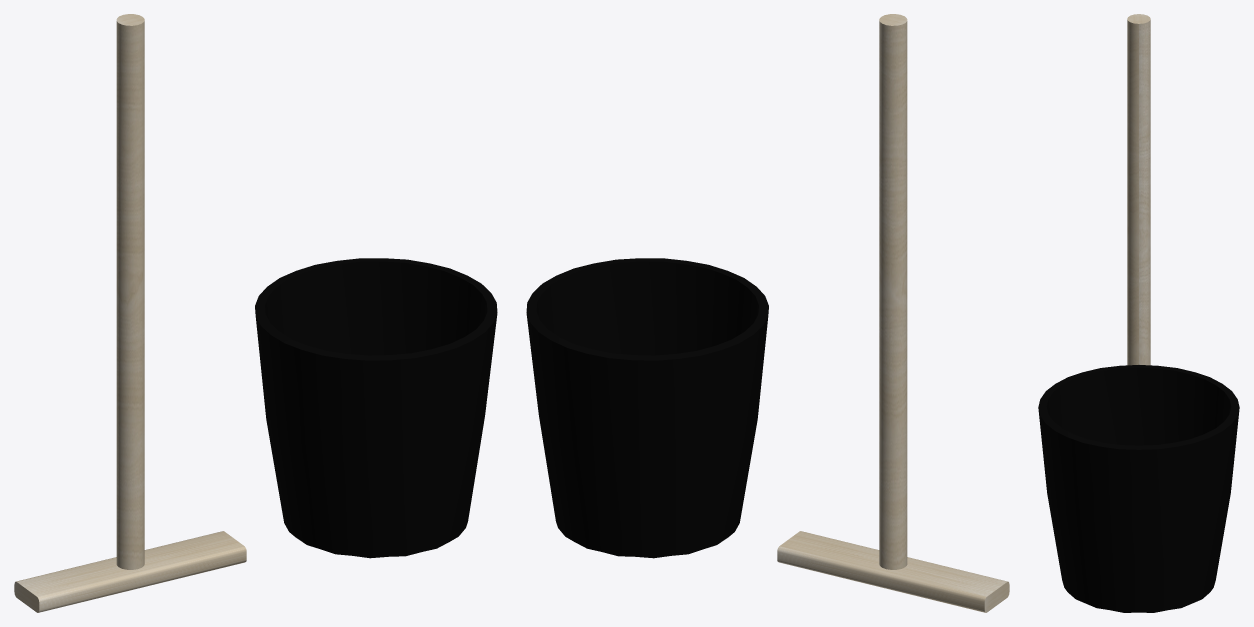
Rendered from shvabra.fbx.
3 renders of one model, left to right at view 1: azimuth 30°, elevation 25°; view 2: azimuth 150°, elevation 25°; view 3: azimuth 270°, elevation 25°, orthographic. The views are drawn at different scales.
Visible parts, largest first — view 1: vi, sh; view 2: vi, sh; view 3: vi, sh.
Part boxes in pixels (x1,y1,x2,y2): vi: (255, 258, 497, 558); sh: (14, 14, 246, 612); vi: (526, 258, 768, 558); sh: (777, 14, 1009, 612); vi: (1038, 365, 1239, 612); sh: (1127, 14, 1150, 365).
Size of the model in its own units: 777 by 924 by 360.
Materials: 2 (1 with a texture image).
